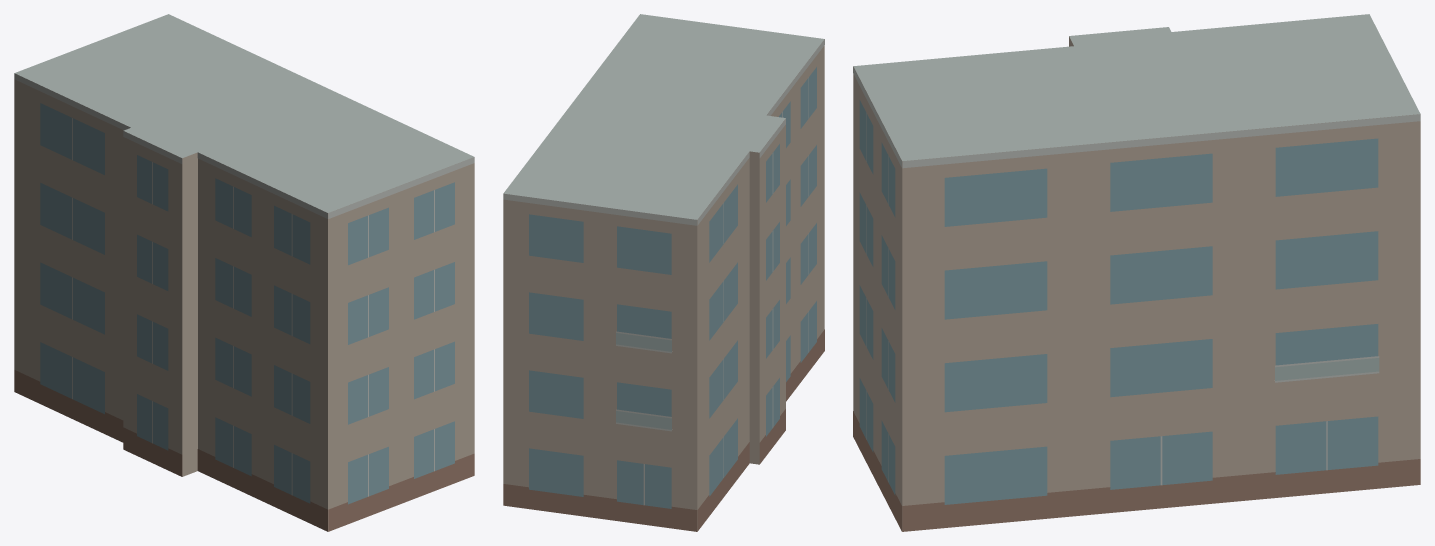
File: survey-upis-32812190.glb
The picture shows the model from 3 angles, left to right: view 1: azimuth 30°, elevation 25°; view 2: azimuth 150°, elevation 25°; view 3: azimuth 270°, elevation 25°; orthographic projection. The views are drawn at different scales.
Parts seen in each view (by area): view 1: survey-upis-32812190.tmp; view 2: survey-upis-32812190.tmp; view 3: survey-upis-32812190.tmp.
Part boxes in pixels (x1,y1,x2,y2): survey-upis-32812190.tmp: (14, 14, 474, 531); survey-upis-32812190.tmp: (503, 14, 824, 531); survey-upis-32812190.tmp: (853, 14, 1420, 531).
Bounding box in the file's own units: 10.91 × 12.8 × 17.77.
